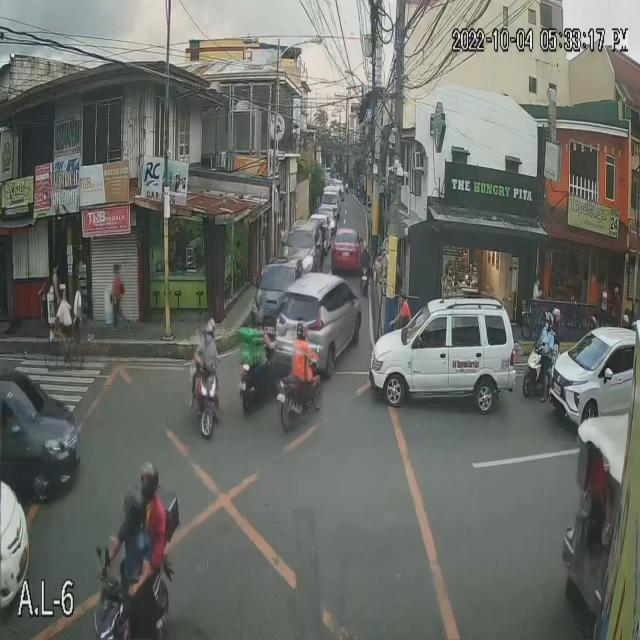full: (122, 492, 146, 532), (138, 458, 160, 498), (296, 320, 309, 343)
half: (543, 310, 552, 332), (552, 305, 562, 324)
invalid: (204, 322, 215, 334)
